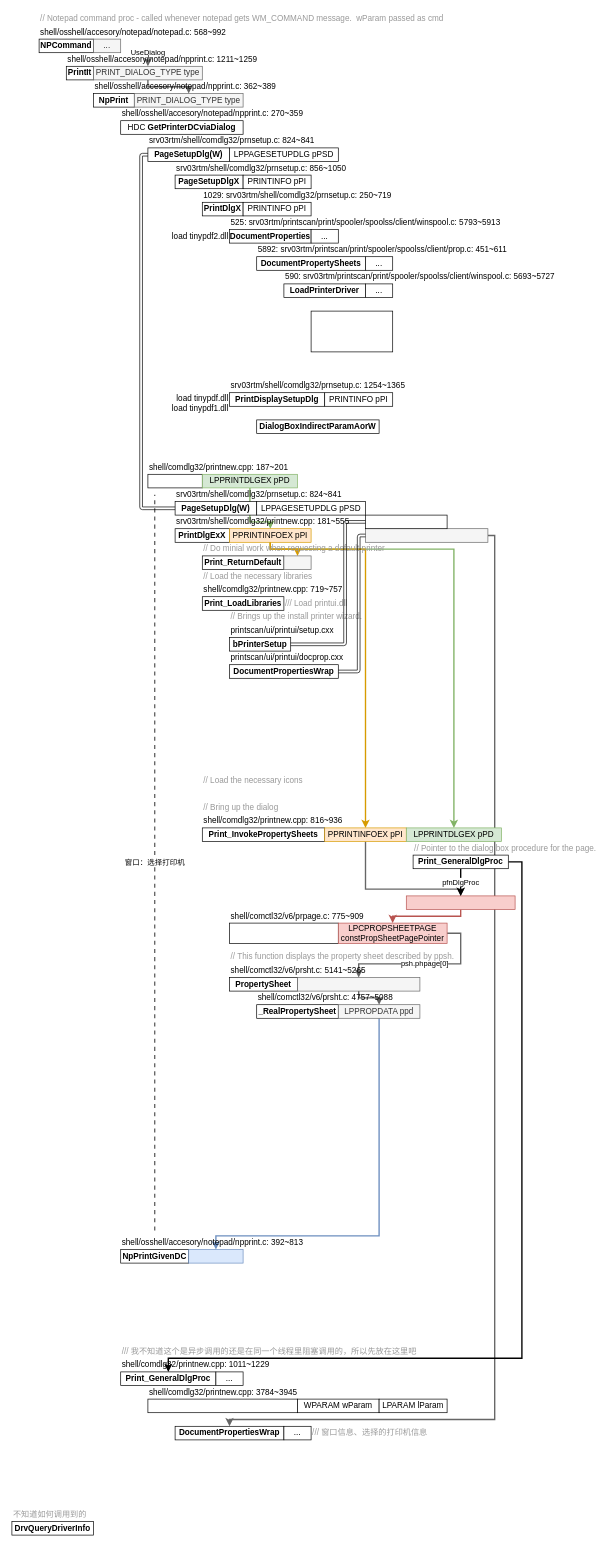
Some shapes in this 615 by 1547 pixel diagram are drawn without their labels. Here are the shapes that lost their labels. From the top down, the centre of each, then its label:
(x=174, y=481): PrintDlgEx
(x=406, y=521): g_pfnPrinterSetup
(x=426, y=535): g_pfnDocumentPropertiesWrap
(x=460, y=902): PROPSHEETPAGE genPage
(x=283, y=933): HPROPSHEETPAGE CreatePropertySheetPage
(x=358, y=984): LPCPROPSHEETHEADER ppsh
(x=215, y=1256): HDC hPrintDC
(x=222, y=1405): CPrintBrowser:: OnCommandMessage
